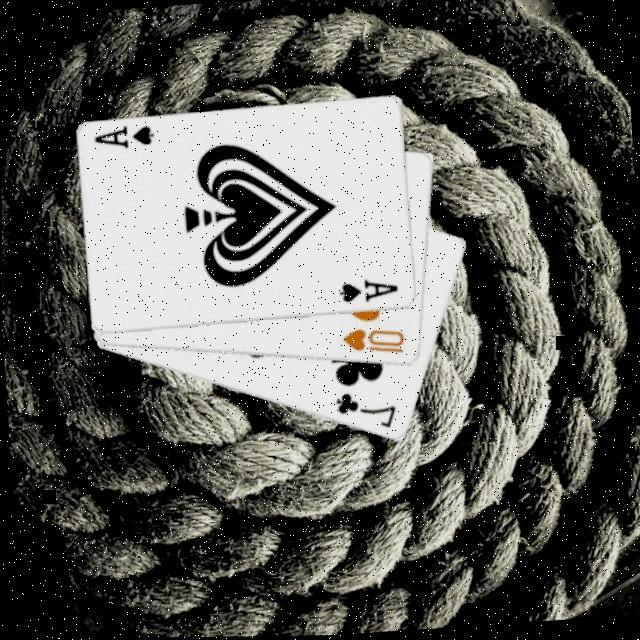10H: (340, 325, 410, 363)
7C: (333, 389, 401, 437)
AS: (338, 277, 404, 310), (93, 122, 160, 154)
